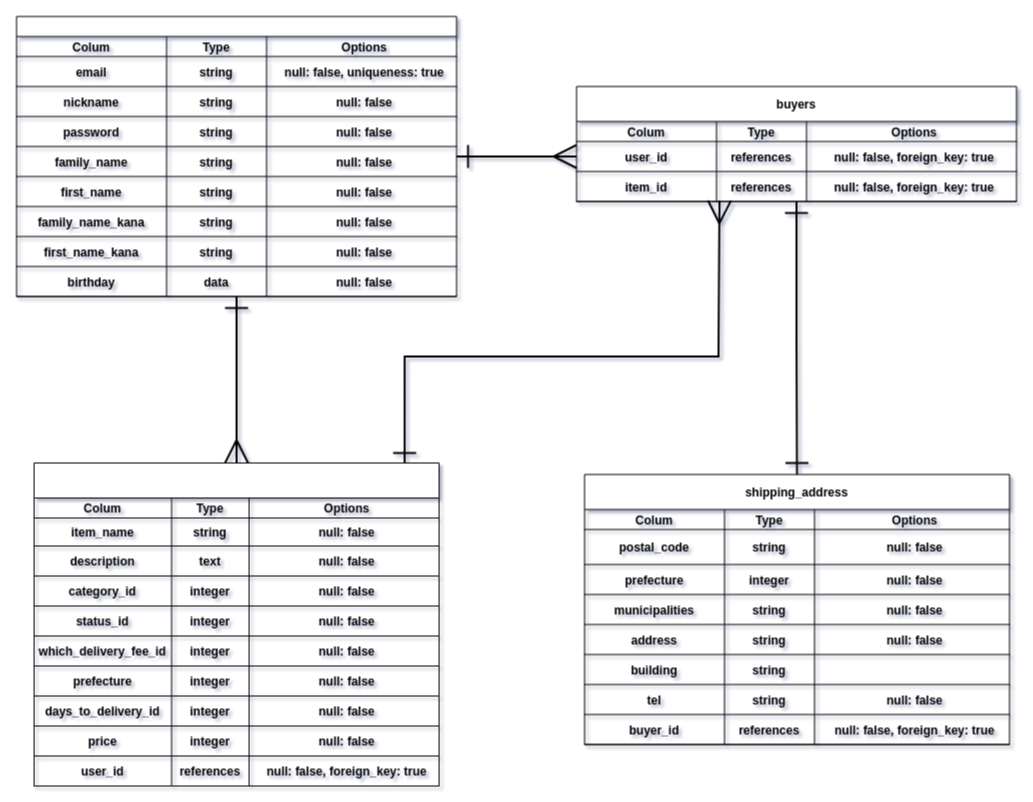
The diagram is 1033 pixels wide and 802 high, and some of its shapes have lost their labels. The box of each missing label's shape, as (x1, y1, x2, y2) in pixels:
items: (33, 462, 439, 786)
users: (16, 16, 456, 296)
